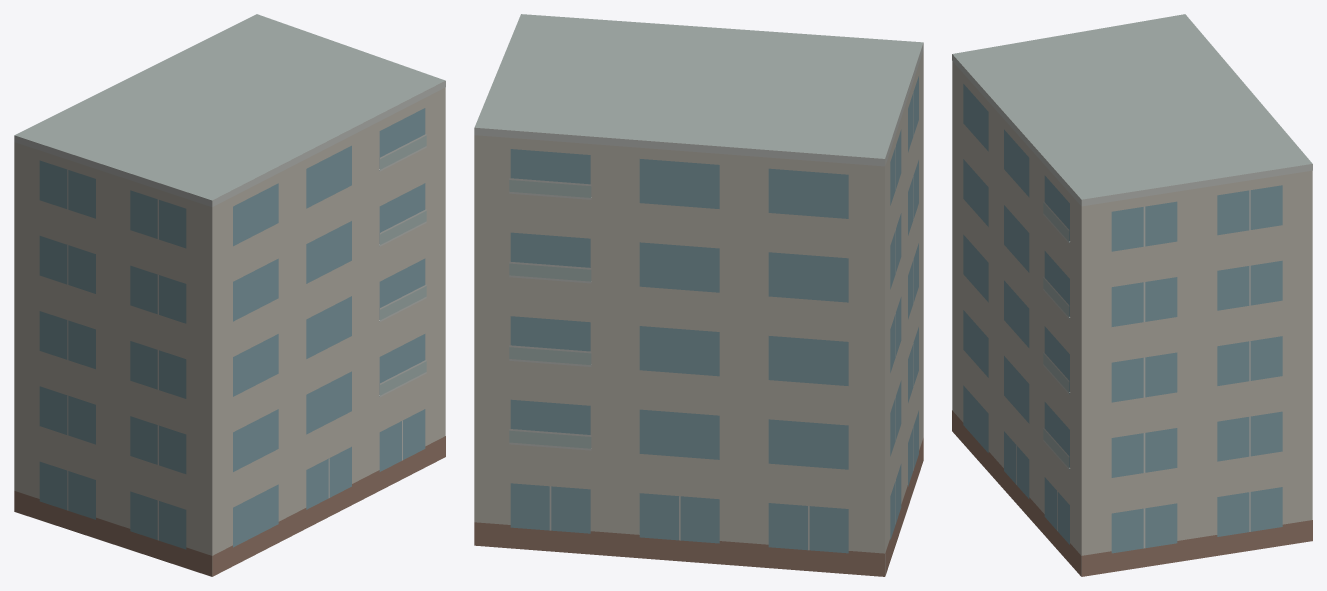
File: survey-upis-32857771.glb
The picture shows the model from 3 angles, left to right: view 1: azimuth 30°, elevation 25°; view 2: azimuth 150°, elevation 25°; view 3: azimuth 270°, elevation 25°; orthographic projection. The views are drawn at different scales.
Visible parts, largest first — view 1: survey-upis-32857771.tmp; view 2: survey-upis-32857771.tmp; view 3: survey-upis-32857771.tmp.
Part boxes in pixels (x1,y1,x2,y2): survey-upis-32857771.tmp: (14, 14, 445, 576); survey-upis-32857771.tmp: (474, 14, 923, 576); survey-upis-32857771.tmp: (952, 14, 1312, 576).
Bounding box in the file's own units: 14.37 × 13.6 × 11.79.
